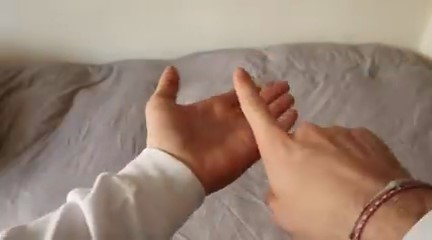L: (134, 54, 420, 236)
